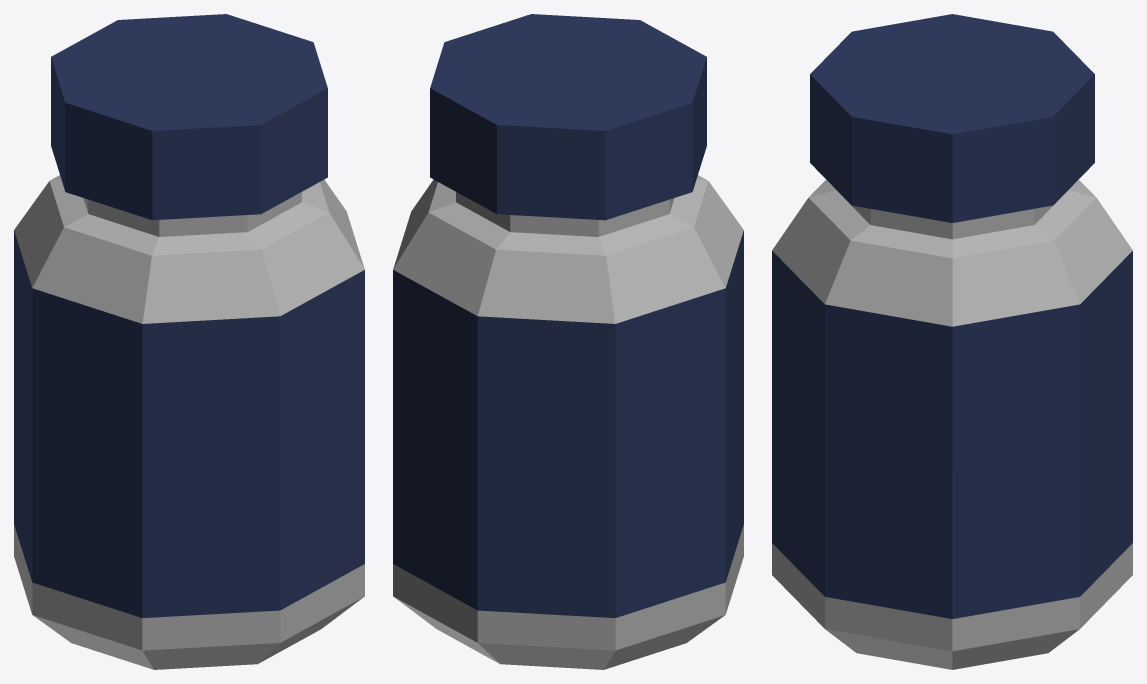
Rendered from pills.fbx.
3 views of the same model, side by side, from view 1: azimuth 30°, elevation 25°; view 2: azimuth 150°, elevation 25°; view 3: azimuth 270°, elevation 25° (orthographic).
Visible parts, largest first — view 1: Cylinder; view 2: Cylinder; view 3: Cylinder.
Part boxes in pixels (x1,y1,x2,y2): Cylinder: (14,14,364,669); Cylinder: (393,14,743,669); Cylinder: (772,14,1132,669).
Size of the model in its own units: 200 by 329 by 200.
